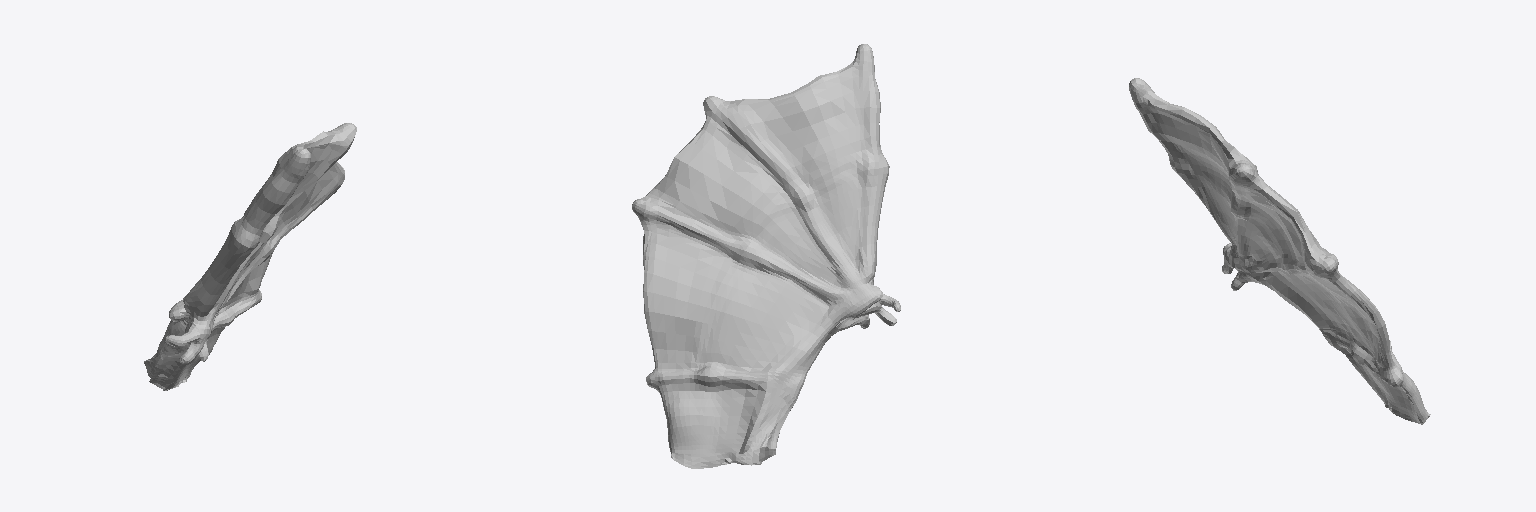
The model's file is alaiderecha.obj.
3 views of the same model, side by side, from view 1: azimuth 30°, elevation 25°; view 2: azimuth 150°, elevation 25°; view 3: azimuth 270°, elevation 25° (orthographic).
Parts seen in each view (by area): view 1: Ala_Derecha; view 2: Ala_Derecha; view 3: Ala_Derecha.
Part boxes in pixels (left/top/right/bottom): Ala_Derecha: left=144, top=123, right=356, bottom=390; Ala_Derecha: left=632, top=44, right=900, bottom=468; Ala_Derecha: left=1129, top=78, right=1430, bottom=424.
Size of the model in its own units: 6.31 by 8.95 by 7.41.